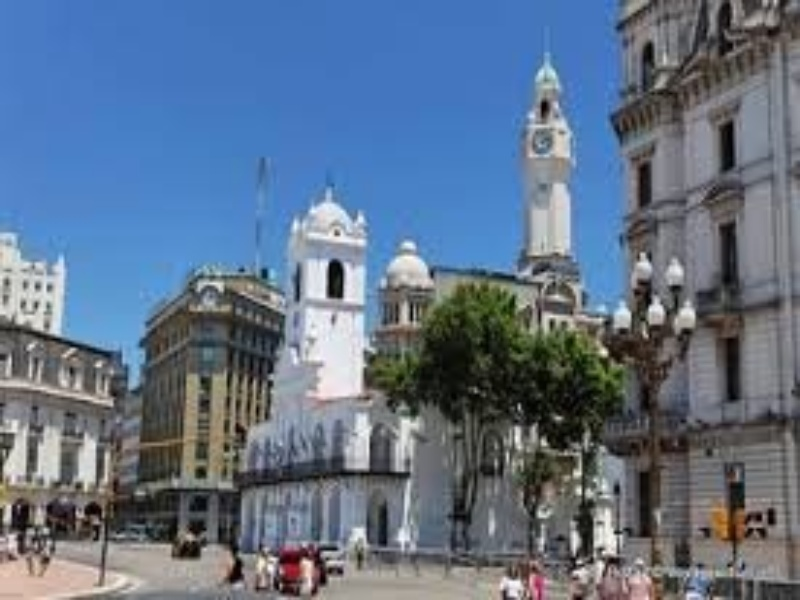cabildo: (229, 176, 419, 560)
